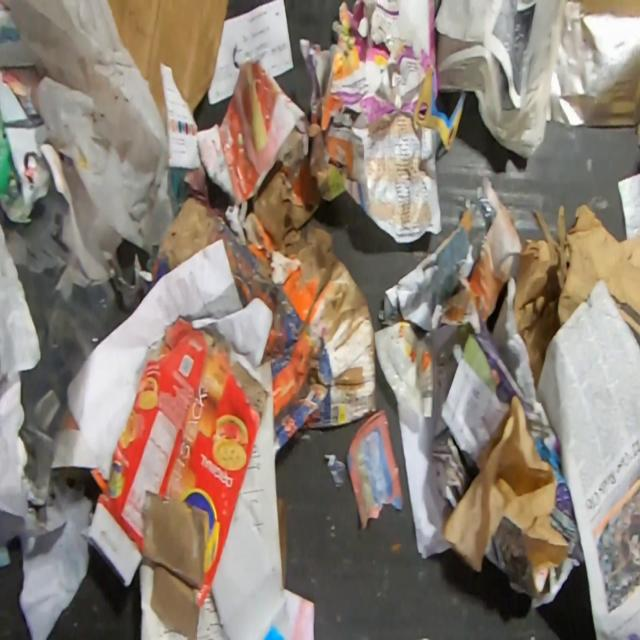cardboard: (78, 315, 270, 640), (151, 194, 378, 461), (108, 0, 229, 123)
soft_plastic: (0, 0, 180, 257)
